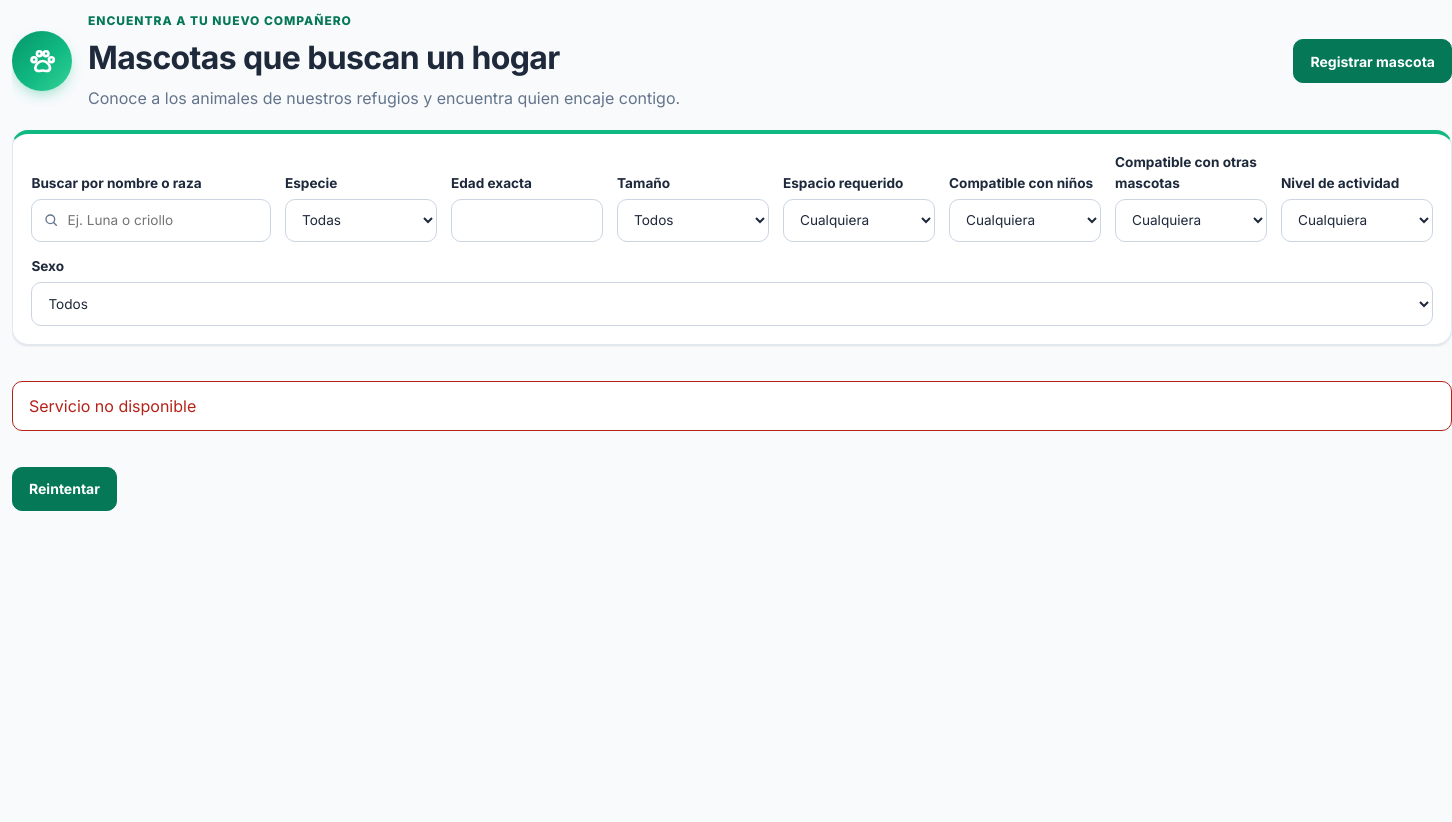
Scenario: PetsPage › shows API errors and lets the user retry
Expected: the text "Servicio no disponible" is shown, [29,394,196,418]
Step 1. Click the button "Reintentar" → (64, 489), box [12,467,117,511]
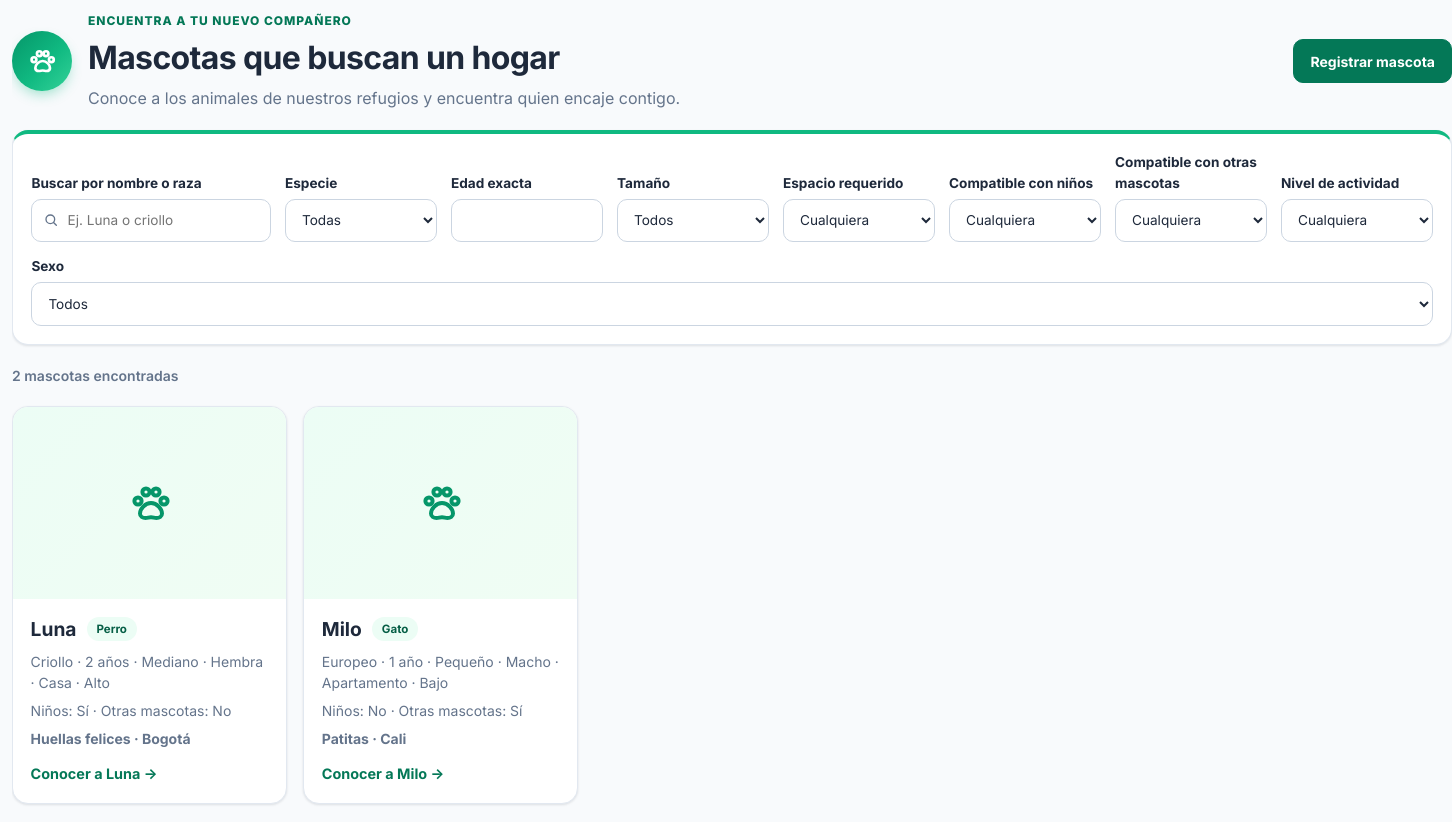
Expected: the heading "Luna" is shown, [31,615,76,644]
